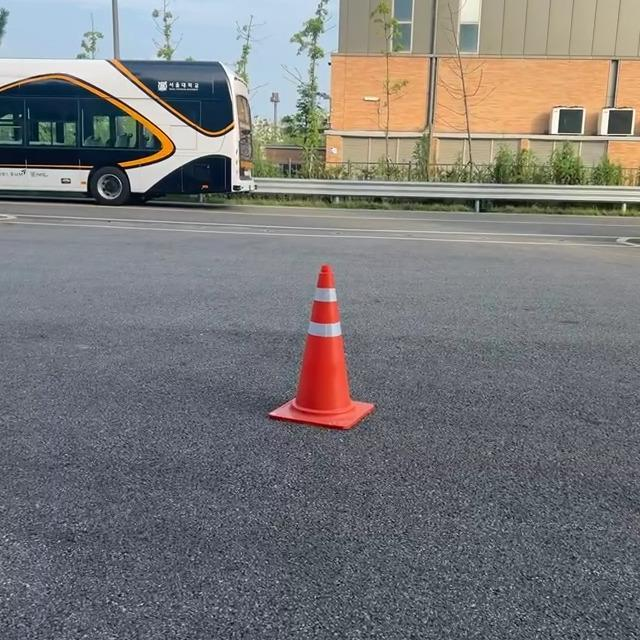fallen_object: (226, 229, 403, 472)
